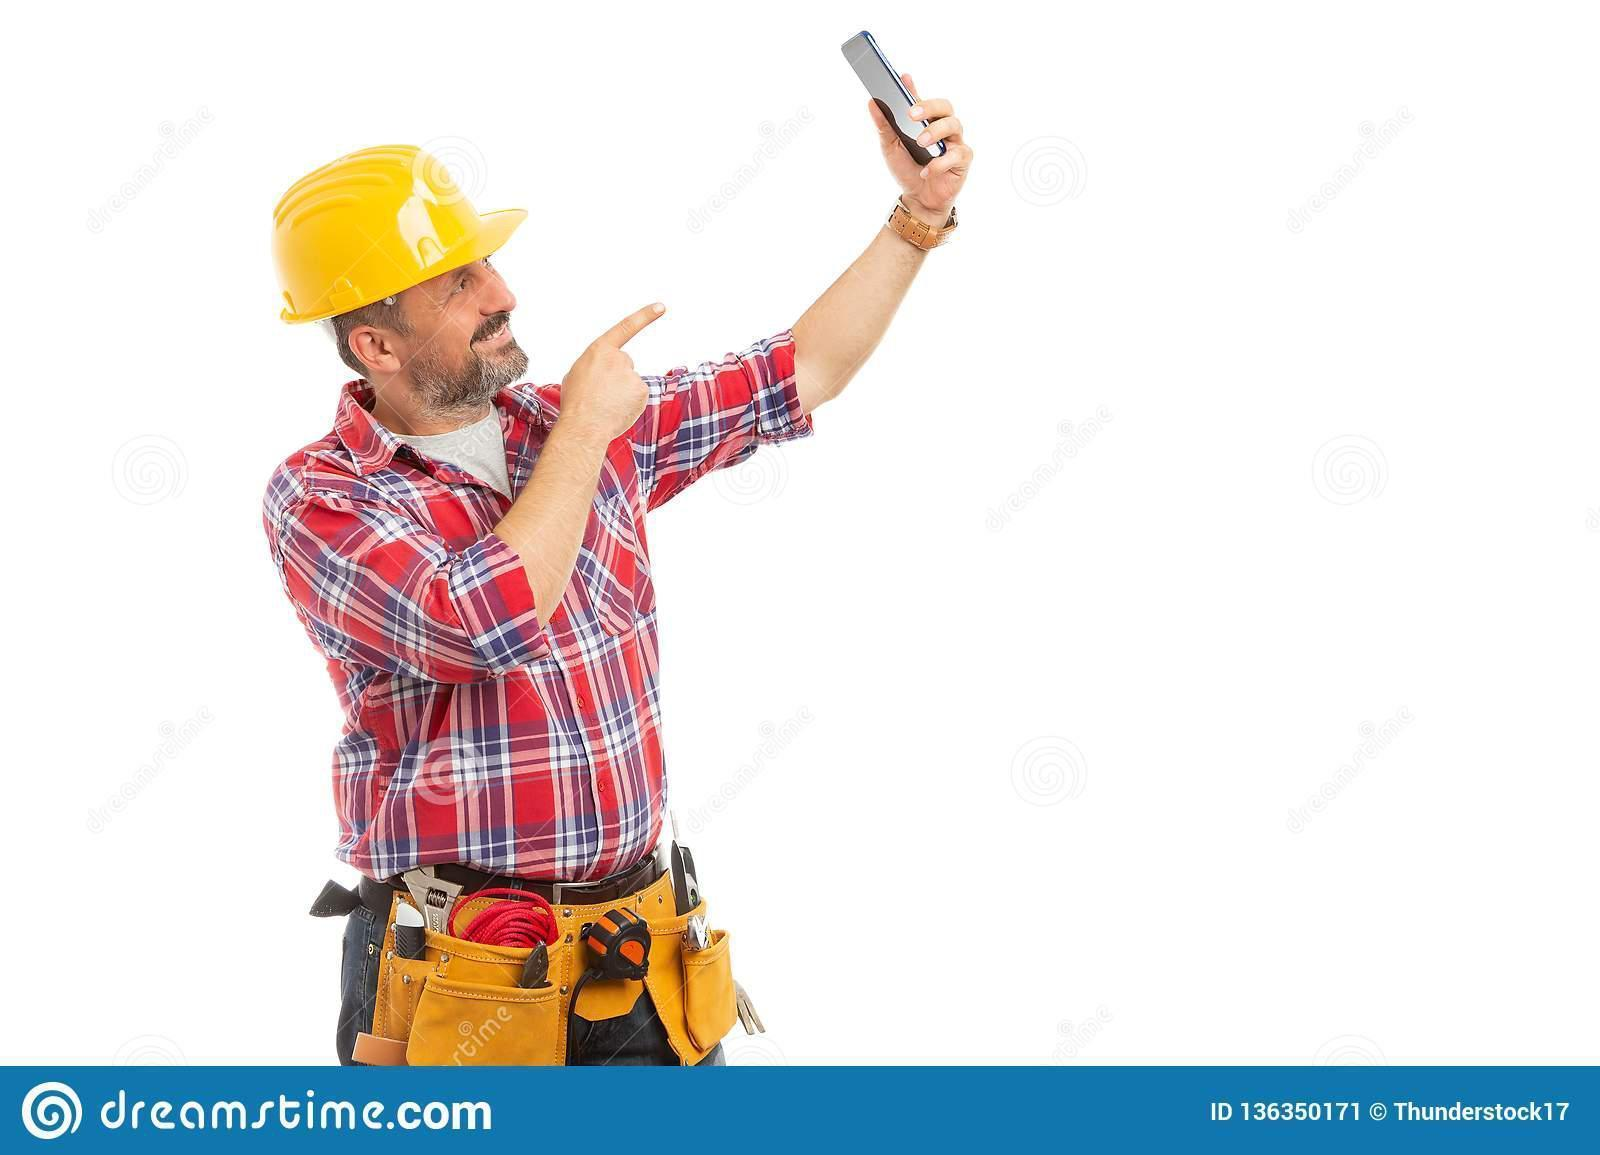helmet: (272, 147, 527, 325)
